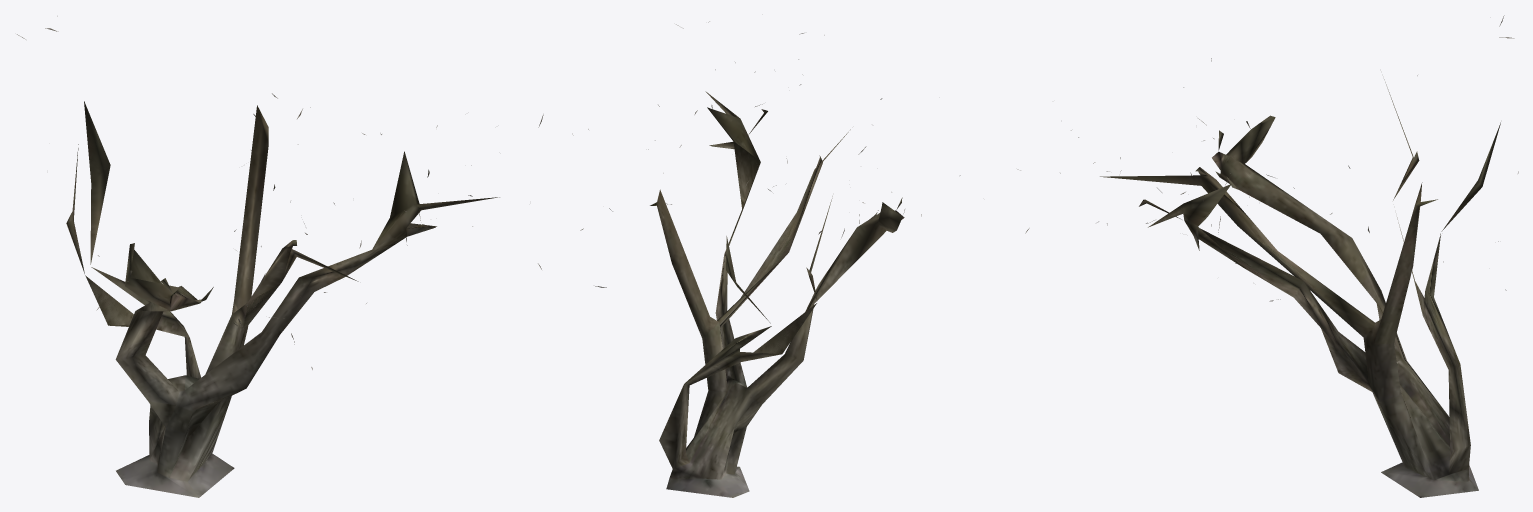
File: island_tree_02.glb
The picture shows the model from 3 angles, left to right: view 1: azimuth 30°, elevation 25°; view 2: azimuth 150°, elevation 25°; view 3: azimuth 270°, elevation 25°; orthographic projection. The views are drawn at different scales.
Parts seen in each view (by area): view 1: island_tree_02_LOD0; view 2: island_tree_02_LOD0; view 3: island_tree_02_LOD0.
Boxes of the visible parts, left/top/right/bottom form: island_tree_02_LOD0: left=17, top=16, right=543, bottom=497; island_tree_02_LOD0: left=572, top=21, right=960, bottom=497; island_tree_02_LOD0: left=1017, top=15, right=1518, bottom=497.
Bounding box in the file's own units: 3.31 × 3.1 × 3.37.
2 materials, 2 textured.
